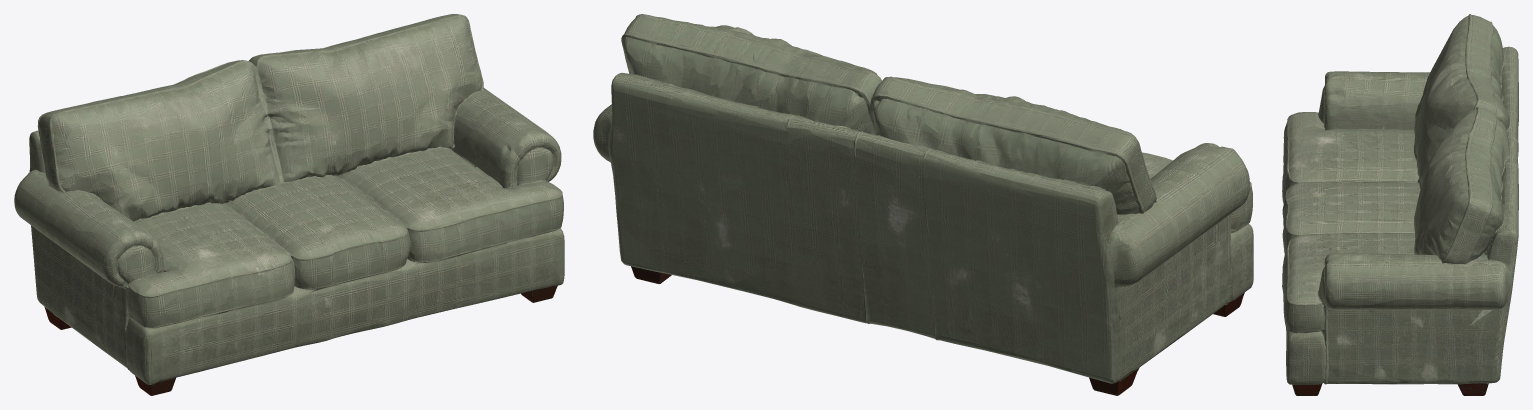
Rendered from couch.glb.
The picture shows the model from 3 angles, left to right: view 1: azimuth 30°, elevation 25°; view 2: azimuth 150°, elevation 25°; view 3: azimuth 270°, elevation 25°; orthographic projection. The views are drawn at different scales.
Bounding box in the file's own units: 1.9 × 0.8638 × 0.9182.
1 material, 1 textured.
